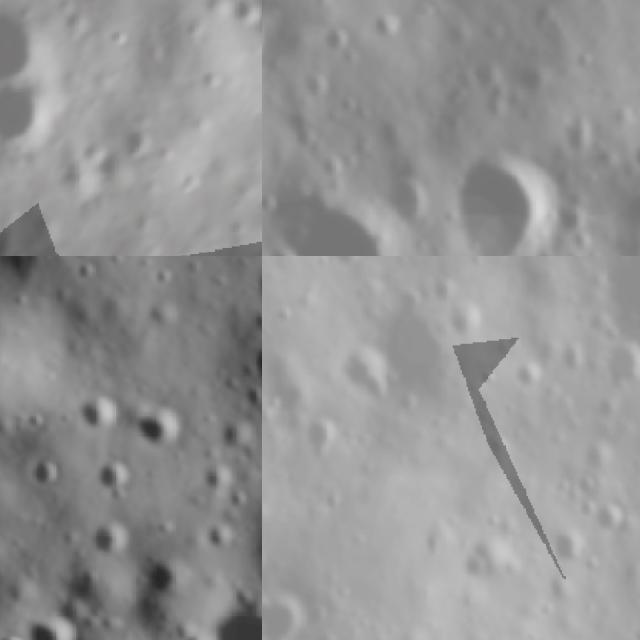crater: (416, 120, 582, 256), (266, 173, 408, 256), (374, 295, 471, 408), (366, 155, 439, 234), (540, 99, 608, 165), (0, 0, 51, 86), (262, 339, 308, 432), (0, 76, 55, 153), (333, 342, 391, 409), (196, 582, 262, 640), (501, 41, 560, 103), (122, 400, 188, 455), (86, 448, 140, 507), (137, 555, 190, 610), (304, 411, 344, 475), (290, 54, 340, 104), (307, 8, 355, 59), (360, 0, 411, 46), (595, 340, 640, 391), (538, 526, 589, 569), (262, 594, 308, 640), (73, 392, 117, 436), (112, 123, 158, 164), (594, 495, 634, 542), (87, 516, 129, 560), (16, 612, 81, 640), (452, 550, 496, 588), (199, 459, 237, 497), (242, 330, 262, 402), (219, 419, 257, 456), (202, 522, 242, 557), (509, 353, 544, 393), (453, 302, 489, 338), (579, 440, 614, 475), (616, 130, 640, 181), (317, 256, 377, 276), (24, 460, 61, 490), (168, 619, 219, 640), (556, 342, 586, 376), (244, 265, 262, 311), (262, 239, 305, 256), (623, 620, 640, 640)
